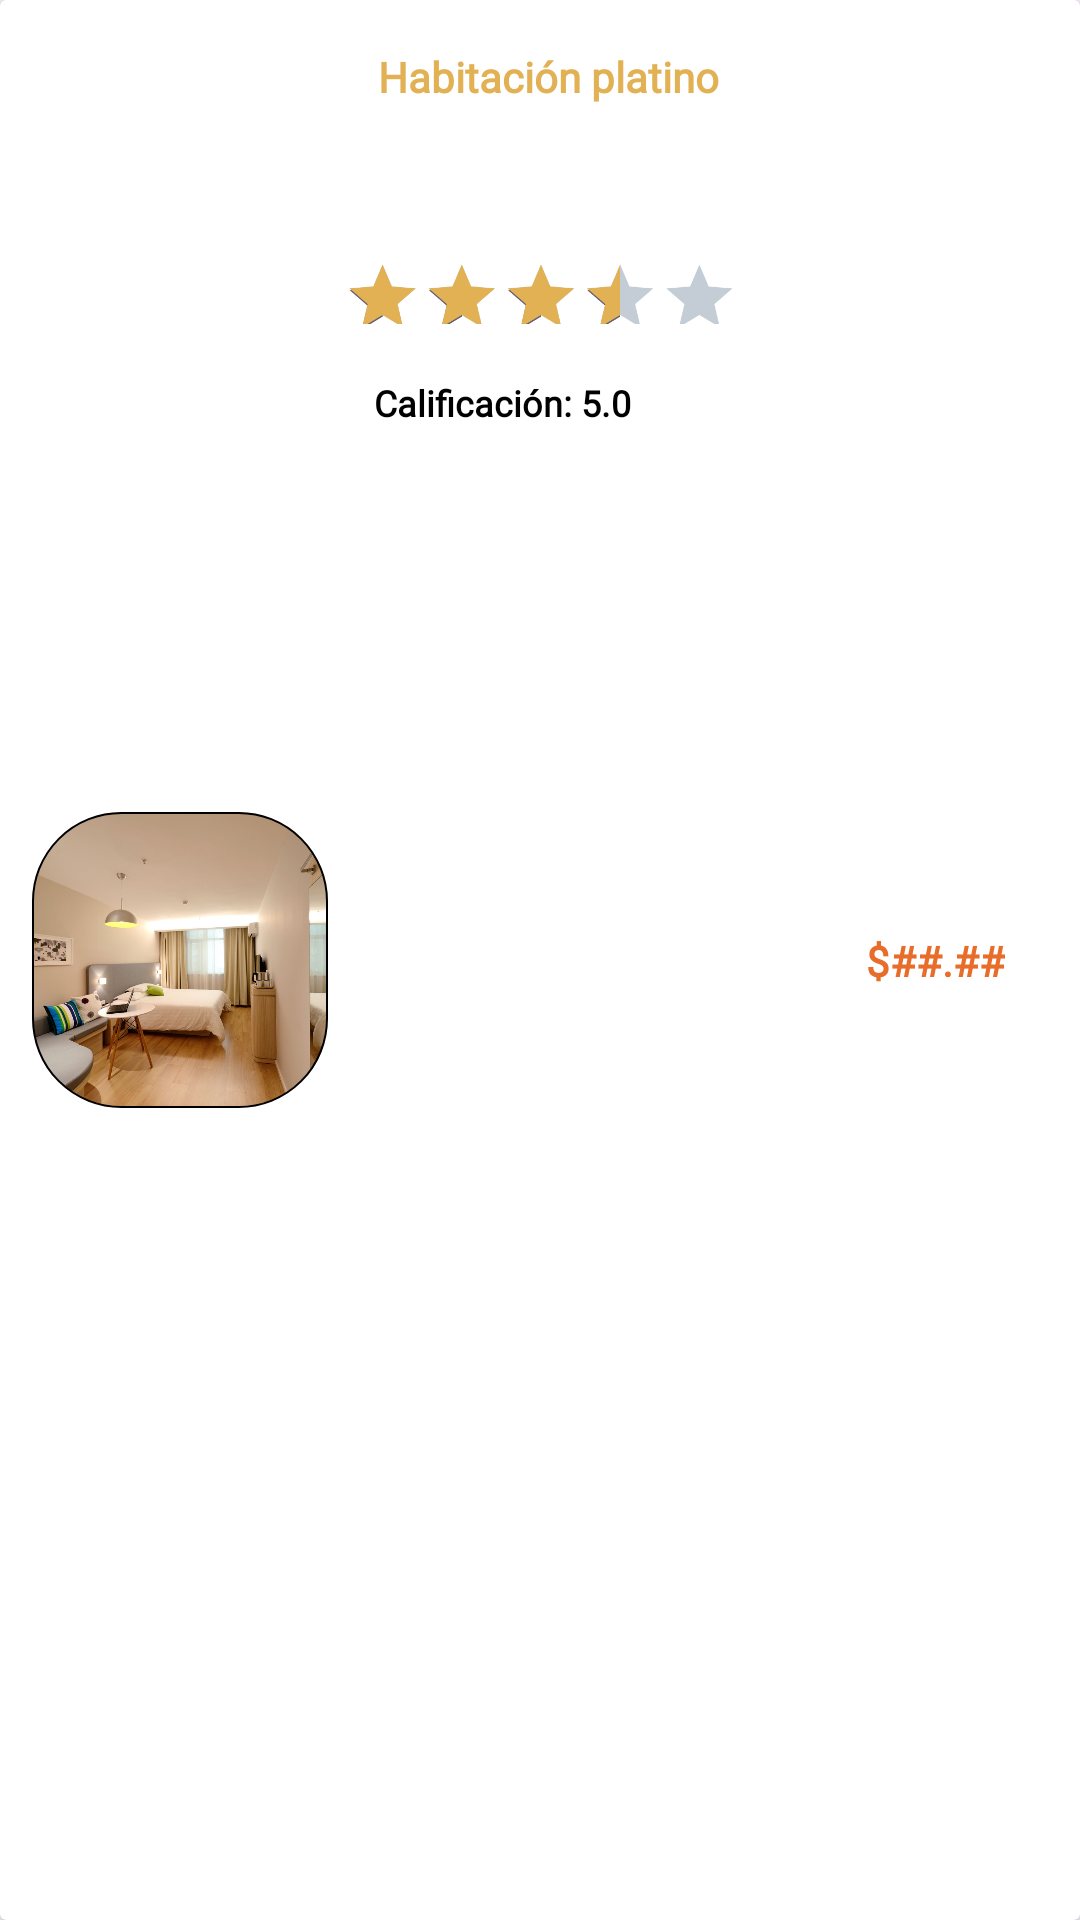

Point at icon controls on the screen. Image size 1080×1920, points as (x,y).
habitacion uno: (180,960)
